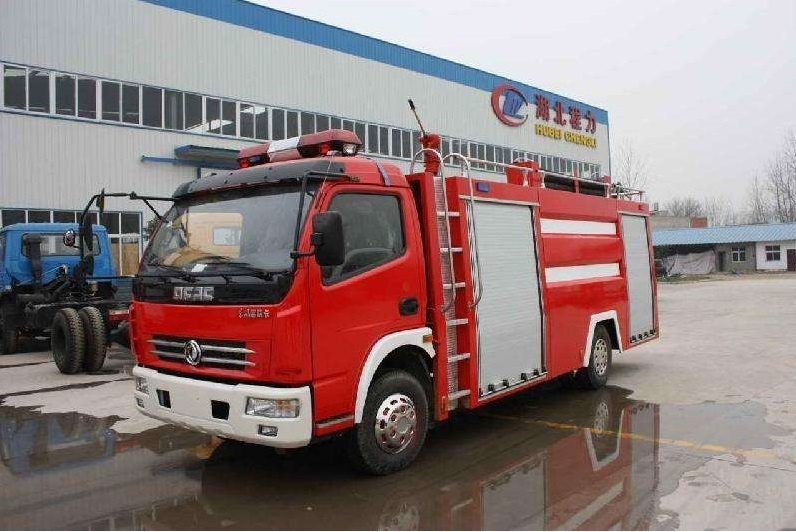fire engine: (103, 154, 689, 464)
